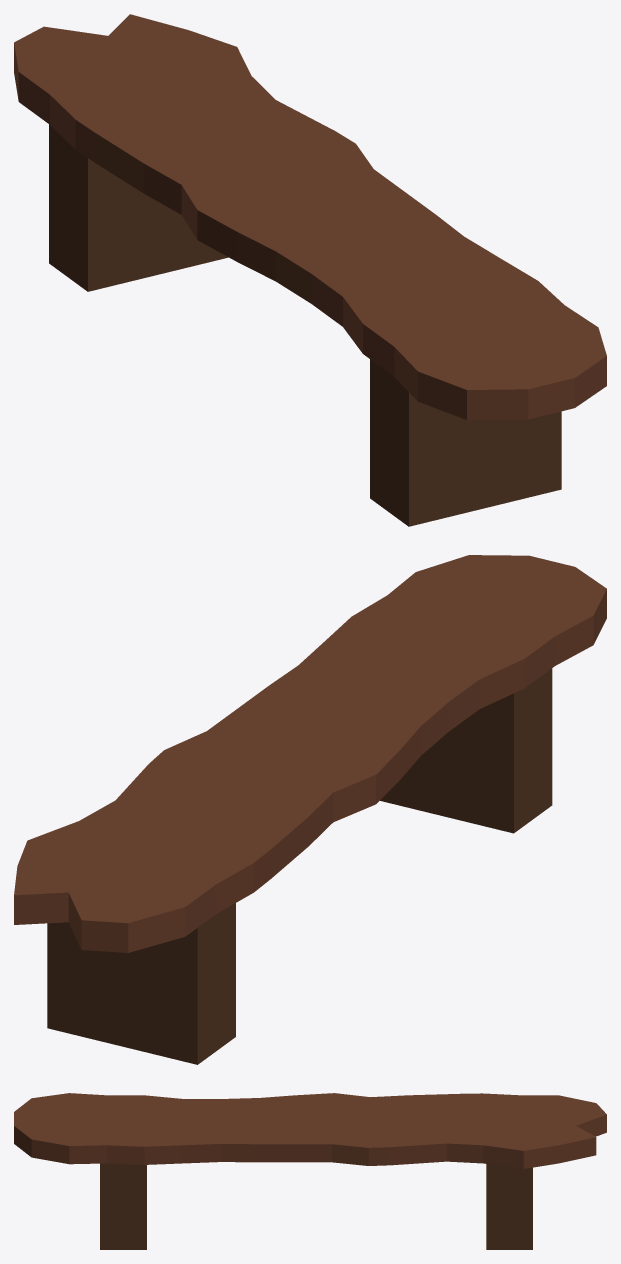
Rendered from Bench.fbx.
3 views of the same model, one above another, from view 1: azimuth 30°, elevation 25°; view 2: azimuth 150°, elevation 25°; view 3: azimuth 270°, elevation 25° (orthographic). The views are drawn at different scales.
Parts seen in each view (by area): view 1: Cube; view 2: Cube; view 3: Cube.
Boxes of the visible parts, x1,y1,x2,y2 form: Cube: [14, 14, 606, 526]; Cube: [14, 555, 606, 1064]; Cube: [14, 1093, 606, 1249].
Bounding box in the file's own units: 70.95 × 61.29 × 307.
